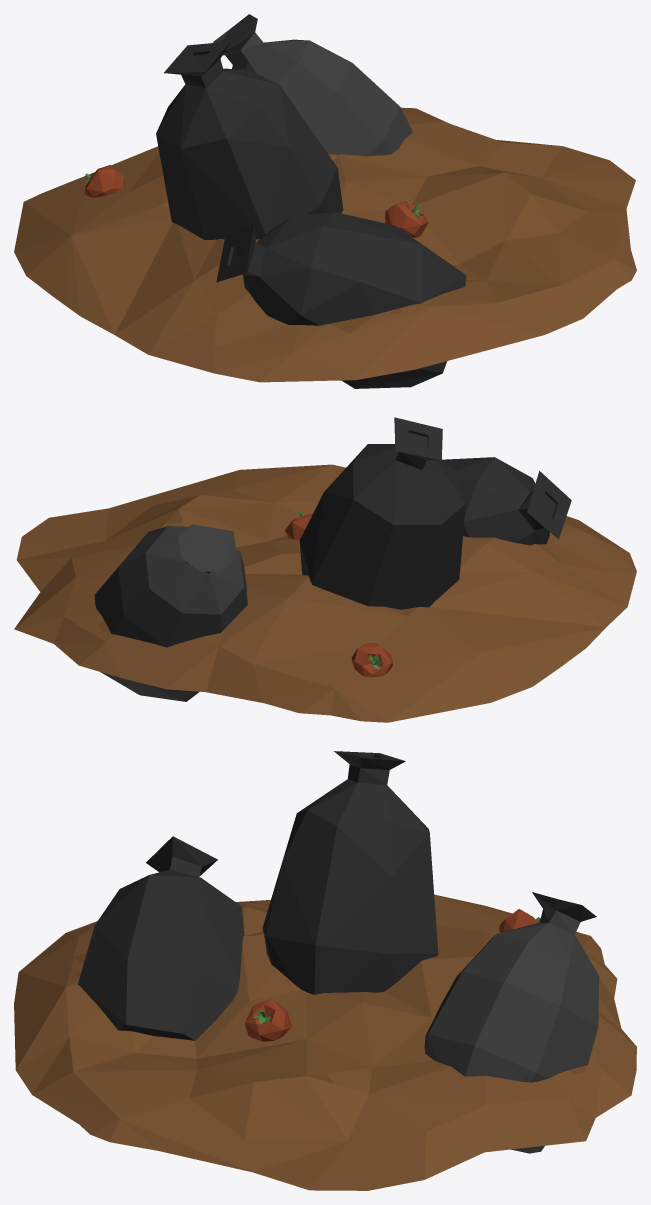
Rendered from SM_Props_Garbage_02.fbx.
The picture shows the model from 3 angles, top to bottom: view 1: azimuth 30°, elevation 25°; view 2: azimuth 150°, elevation 25°; view 3: azimuth 270°, elevation 25°; orthographic projection. The views are drawn at different scales.
Parts seen in each view (by area): view 1: SM_Props_Garbage_02; view 2: SM_Props_Garbage_02; view 3: SM_Props_Garbage_02.
Part boxes in pixels (bbox=[...]): SM_Props_Garbage_02: bbox=[14, 14, 636, 388]; SM_Props_Garbage_02: bbox=[14, 417, 636, 722]; SM_Props_Garbage_02: bbox=[14, 751, 636, 1190].
Bounding box in the file's own units: 148 × 74.69 × 133.
